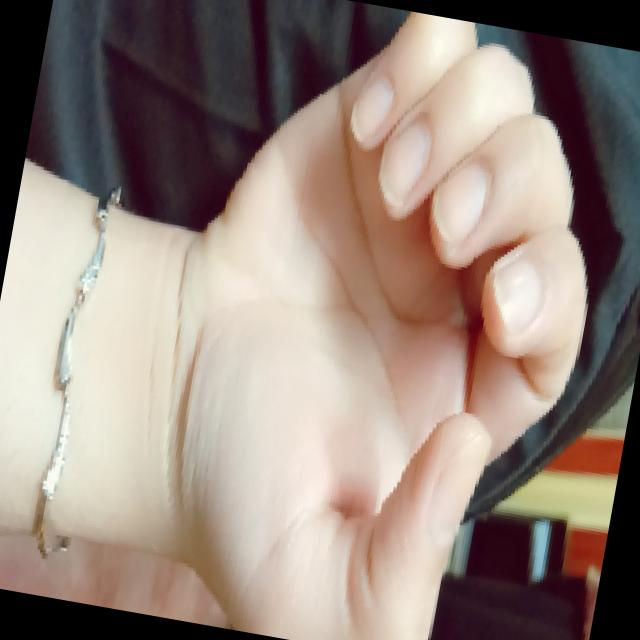Nail: (427, 436, 489, 546), (430, 162, 488, 245), (378, 124, 430, 208), (491, 258, 542, 335), (349, 79, 393, 144)
